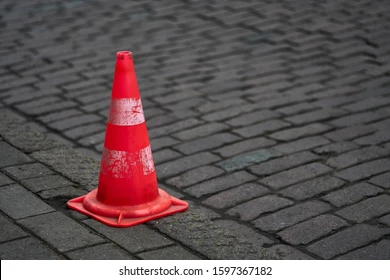cones: (68, 51, 195, 229)
